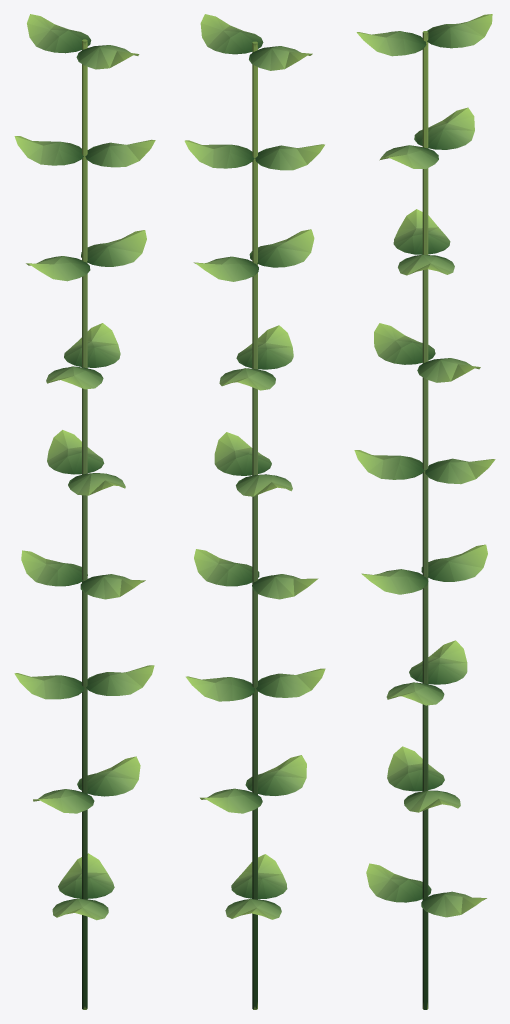
The model's file is SM_Algae_11.fbx.
The picture shows the model from 3 angles, left to right: view 1: azimuth 30°, elevation 25°; view 2: azimuth 210°, elevation 25°; view 3: azimuth 270°, elevation 25°; orthographic projection.
Visible parts, largest first — view 1: Algae_11; view 2: Algae_11; view 3: Algae_11.
Boxes of the visible parts, x1,y1,x2,y2 form: Algae_11: (14,14,155,1009); Algae_11: (184,14,325,1009); Algae_11: (354,14,495,1009).
Size of the model in its own units: 41.17 by 314 by 40.79.
